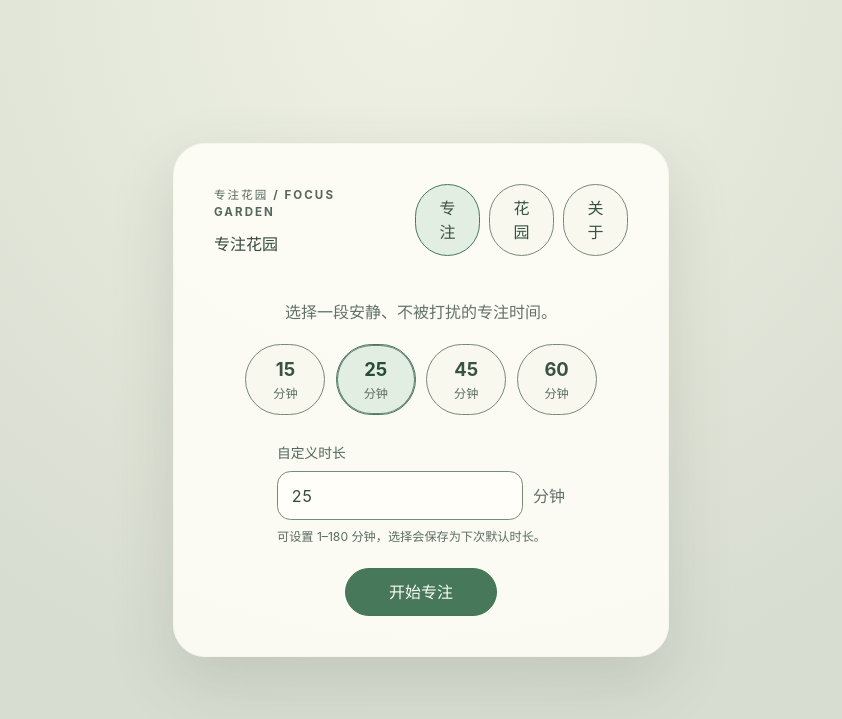
Scenario: App › associates duration validation with the input and clears it while editing
Replace the text in the number field labelled "自定义时长" with "181": x=400, y=496 [277,471,523,520]
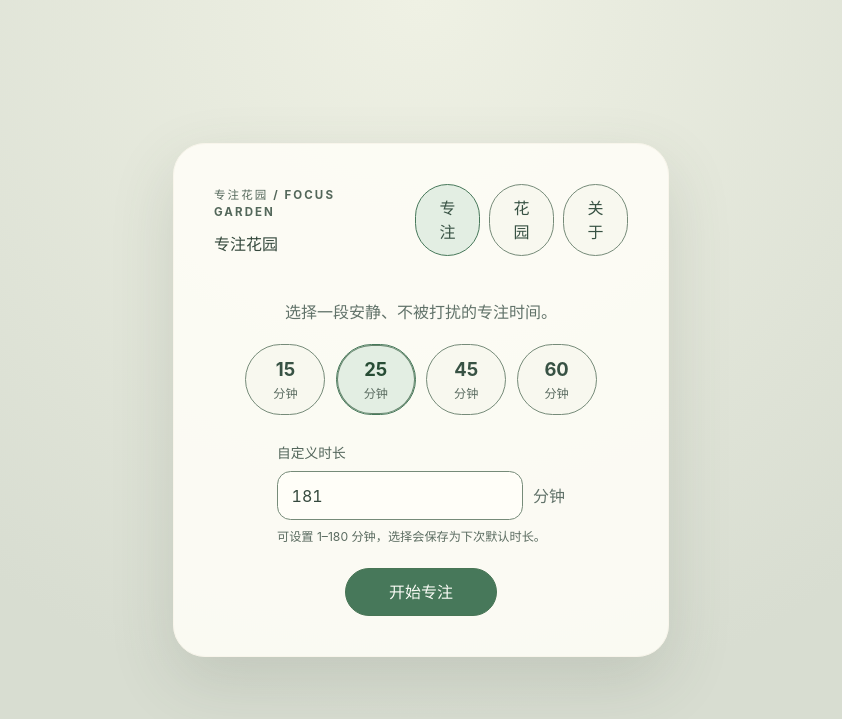
Click the button "开始专注": x=421, y=592 [345,568,497,616]
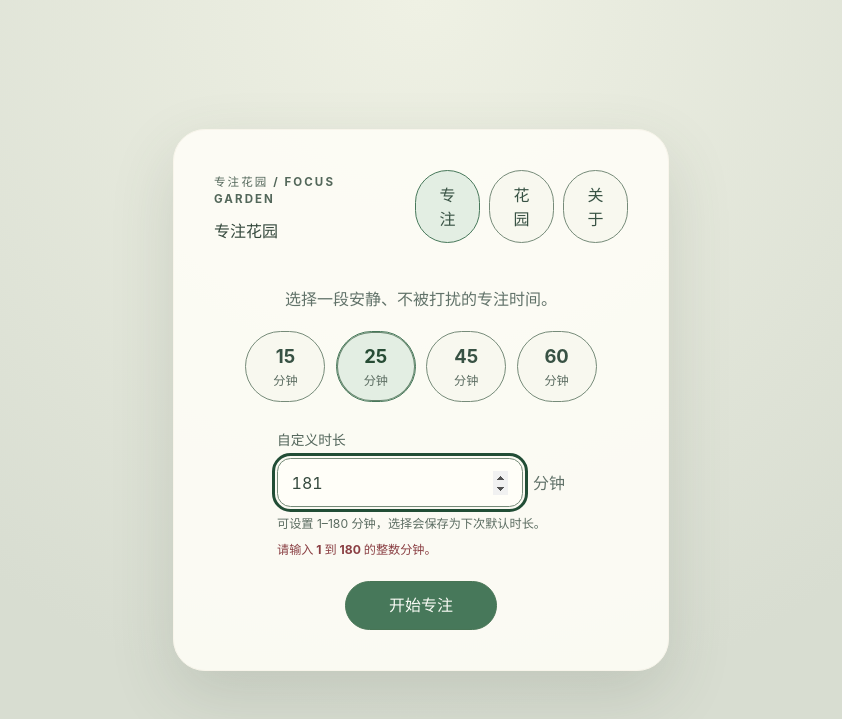
Expected: the number field labelled "自定义时长" is marked as invalid
Expected: the number field labelled "自定义时长" has attribute aria-errormessage="duration-error"
Replace the text in the number field labelled "自定义时长" with "30": x=400, y=483 [277,458,523,507]
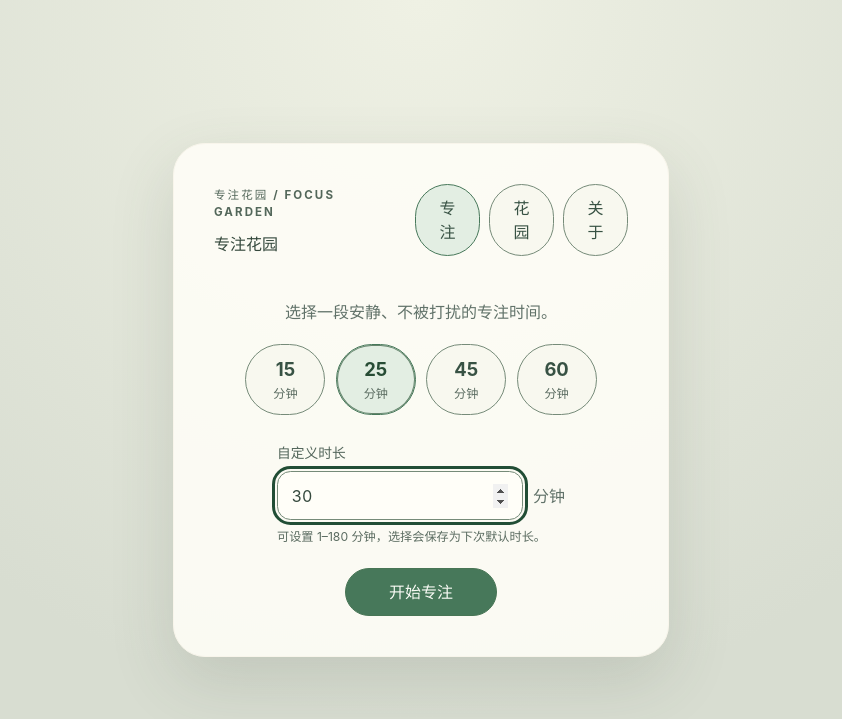
Expected: the text "请输入 1 到 180 的整数分钟。" is gone
